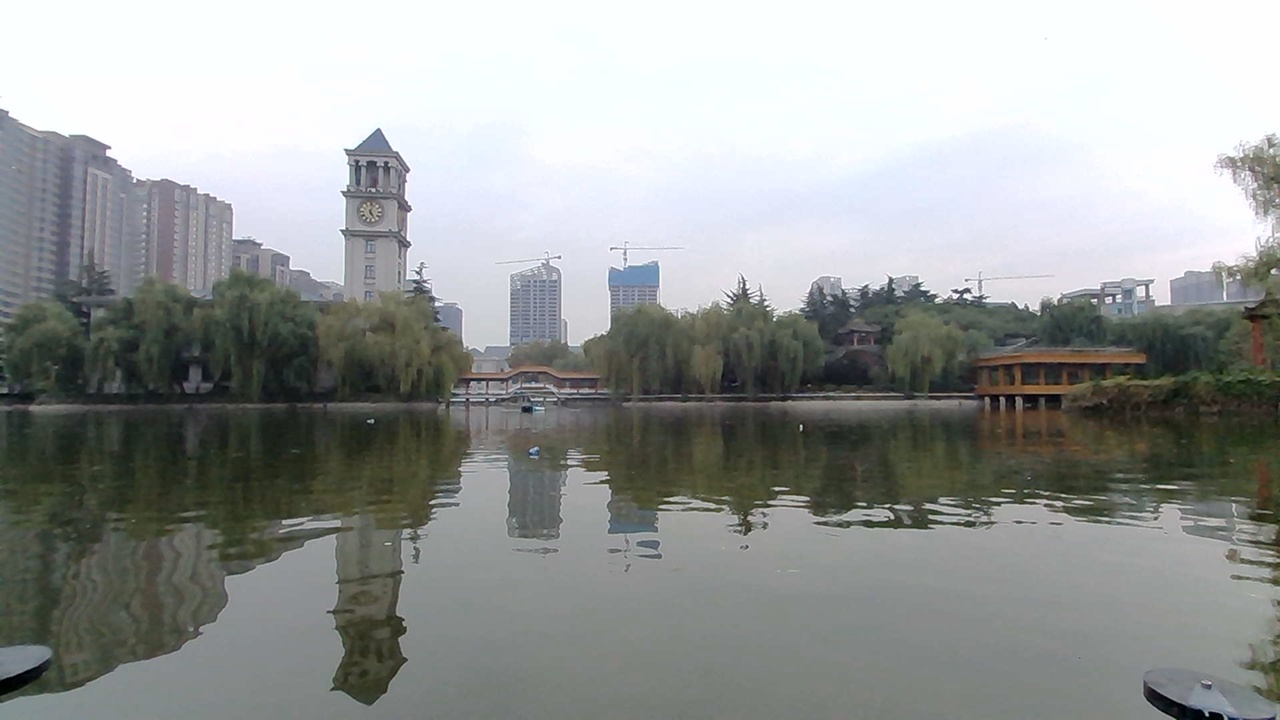bottle: (510, 434, 551, 463), (786, 420, 817, 441), (367, 408, 393, 427)
